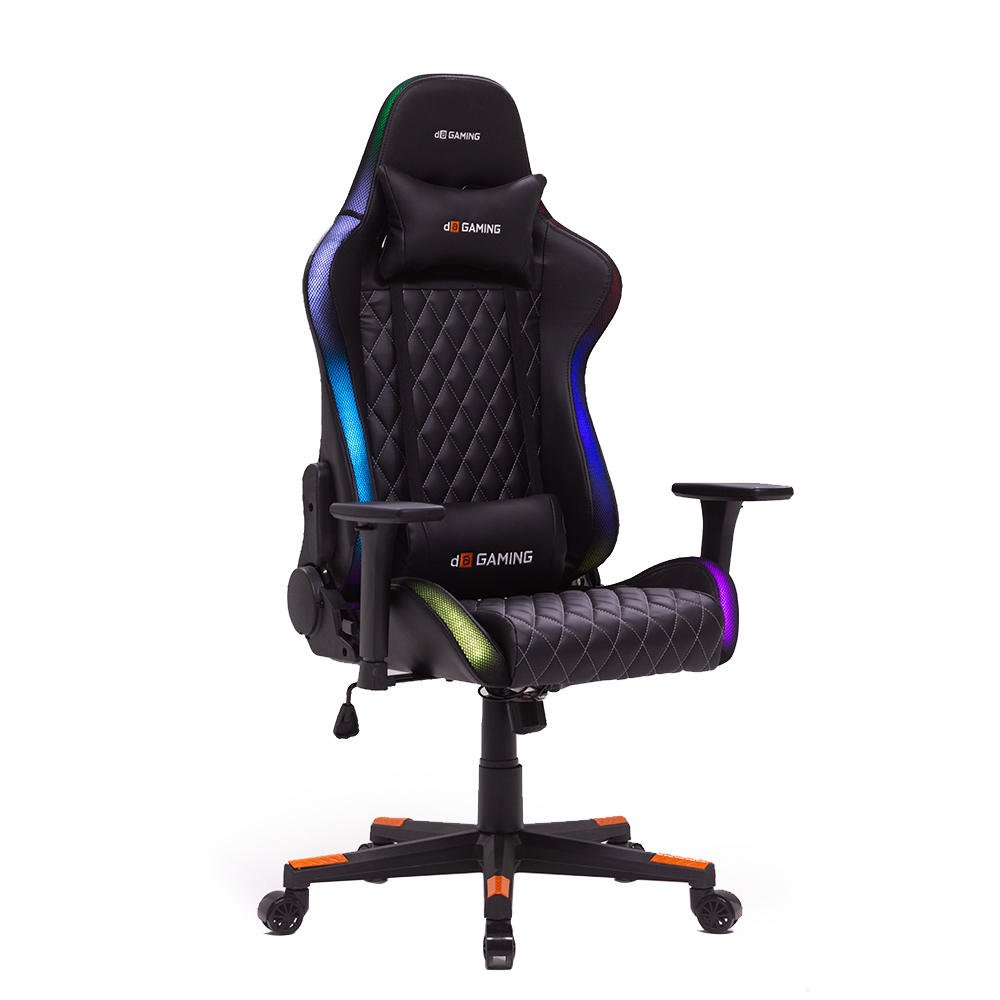kursi: (229, 62, 789, 977)
